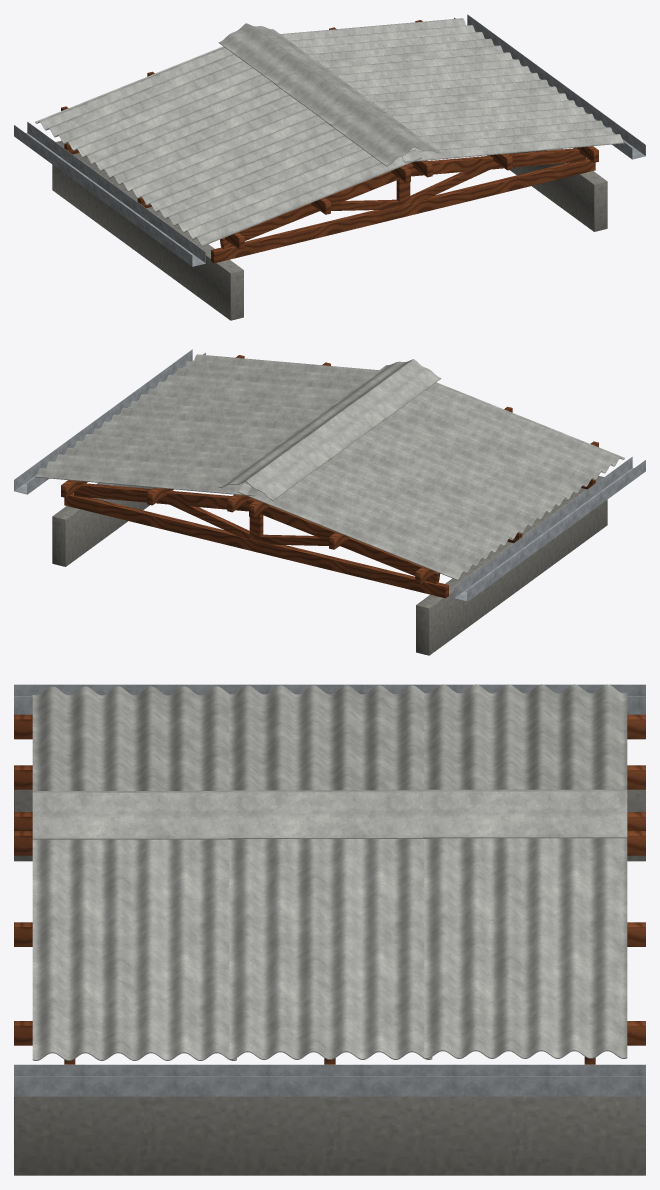
The model's file is KIT-COB-02_lod1.glb.
3 renders of one model, top to bottom at view 1: azimuth 30°, elevation 25°; view 2: azimuth 150°, elevation 25°; view 3: azimuth 270°, elevation 25°, orthographic. The views are drawn at different scales.
Parts seen in each view (by area): view 1: KIT-COB-02_p0, KIT-COB-02_p2, KIT-COB-02_p1, KIT-COB-02_p3, KIT-COB-02_p5, KIT-COB-02_p4, KIT-COB-02_apoio-1, KIT-COB-02_linha0, KIT-COB-02_calha-1, KIT-COB-02_p8, KIT-COB-02_p6, KIT-COB-02_p7 (+6 smaller); view 2: KIT-COB-02_p2, KIT-COB-02_p0, KIT-COB-02_p1, KIT-COB-02_p5, KIT-COB-02_p4, KIT-COB-02_p3, KIT-COB-02_apoio-1, KIT-COB-02_linha2, KIT-COB-02_calha-1, KIT-COB-02_p8, KIT-COB-02_apoio1, KIT-COB-02_p6 (+6 smaller); view 3: KIT-COB-02_apoio1, KIT-COB-02_p5, KIT-COB-02_p3, KIT-COB-02_p4, KIT-COB-02_calha1, KIT-COB-02_p2, KIT-COB-02_p1, KIT-COB-02_p0, KIT-COB-02_p8, KIT-COB-02_p6, KIT-COB-02_p7, KIT-COB-02_calha-1 (+7 smaller).
Part boxes in pixels (<box>): KIT-COB-02_p0: <box>145,129,421,246</box>; KIT-COB-02_p2: <box>35,46,279,164</box>; KIT-COB-02_p1: <box>90,88,334,205</box>; KIT-COB-02_p3: <box>391,100,624,162</box>; KIT-COB-02_p5: <box>280,18,512,74</box>; KIT-COB-02_p4: <box>336,59,567,115</box>; KIT-COB-02_apoio-1: <box>52,140,243,320</box>; KIT-COB-02_linha0: <box>211,158,595,263</box>; KIT-COB-02_calha-1: <box>14,121,205,266</box>; KIT-COB-02_p8: <box>218,23,330,84</box>; KIT-COB-02_p6: <box>329,106,440,166</box>; KIT-COB-02_p7: <box>274,66,385,125</box>; KIT-COB-02_p2: <box>238,462,513,580</box>; KIT-COB-02_p0: <box>381,382,624,500</box>; KIT-COB-02_p1: <box>326,422,569,540</box>; KIT-COB-02_p5: <box>35,434,269,496</box>; KIT-COB-02_p4: <box>93,394,323,449</box>; KIT-COB-02_p3: <box>147,354,378,409</box>; KIT-COB-02_apoio-1: <box>416,476,607,655</box>; KIT-COB-02_linha2: <box>64,493,448,598</box>; KIT-COB-02_calha-1: <box>454,456,645,601</box>; KIT-COB-02_p8: <box>218,439,330,500</box>; KIT-COB-02_apoio1: <box>52,482,153,566</box>; KIT-COB-02_p6: <box>332,359,441,420</box>; KIT-COB-02_apoio1: <box>14,1096,645,1175</box>; KIT-COB-02_p5: <box>424,838,627,1058</box>; KIT-COB-02_p3: <box>32,839,236,1060</box>; KIT-COB-02_p4: <box>229,839,432,1059</box>; KIT-COB-02_calha1: <box>14,1064,645,1096</box>; KIT-COB-02_p2: <box>424,684,627,789</box>; KIT-COB-02_p1: <box>229,685,424,790</box>; KIT-COB-02_p0: <box>32,686,229,790</box>; KIT-COB-02_p8: <box>423,789,627,838</box>; KIT-COB-02_p6: <box>32,791,236,839</box>; KIT-COB-02_p7: <box>227,790,432,838</box>; KIT-COB-02_calha-1: <box>14,684,645,714</box>.
Bounding box in the file's own units: 4.99 × 1.31 × 3.4.
4 materials, 4 textured.
